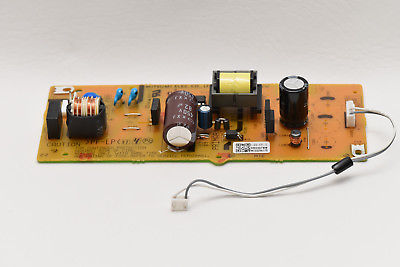capacitor: (162, 90, 197, 149), (279, 75, 309, 127), (197, 104, 212, 129)
